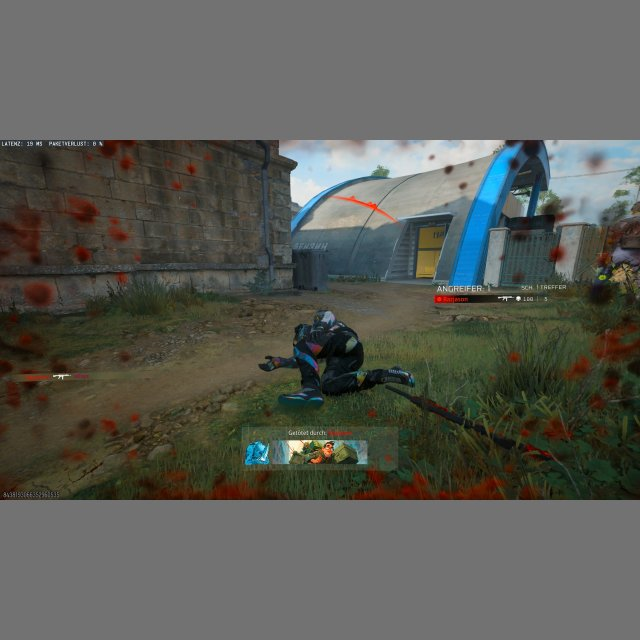head: (312, 309, 337, 329)
player: (258, 308, 415, 399)
